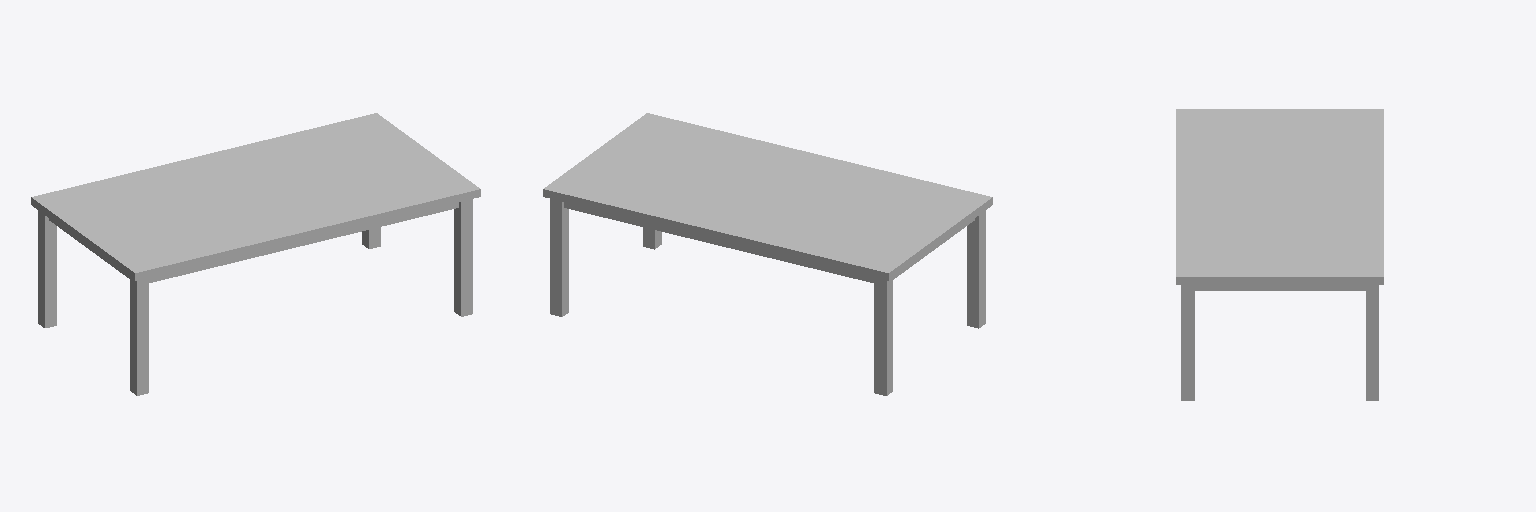
The model's file is table-tex.obj.
3 views of the same model, side by side, from view 1: azimuth 30°, elevation 25°; view 2: azimuth 150°, elevation 25°; view 3: azimuth 270°, elevation 25° (orthographic).
Visible parts, largest first — view 1: Box001; view 2: Box001; view 3: Box001.
Boxes of the visible parts, box(x1,y1,x2,y2) form: Box001: box(31, 113, 480, 395); Box001: box(543, 113, 992, 395); Box001: box(1176, 109, 1383, 400).
Bounding box in the file's own units: 230 × 79.97 × 120.